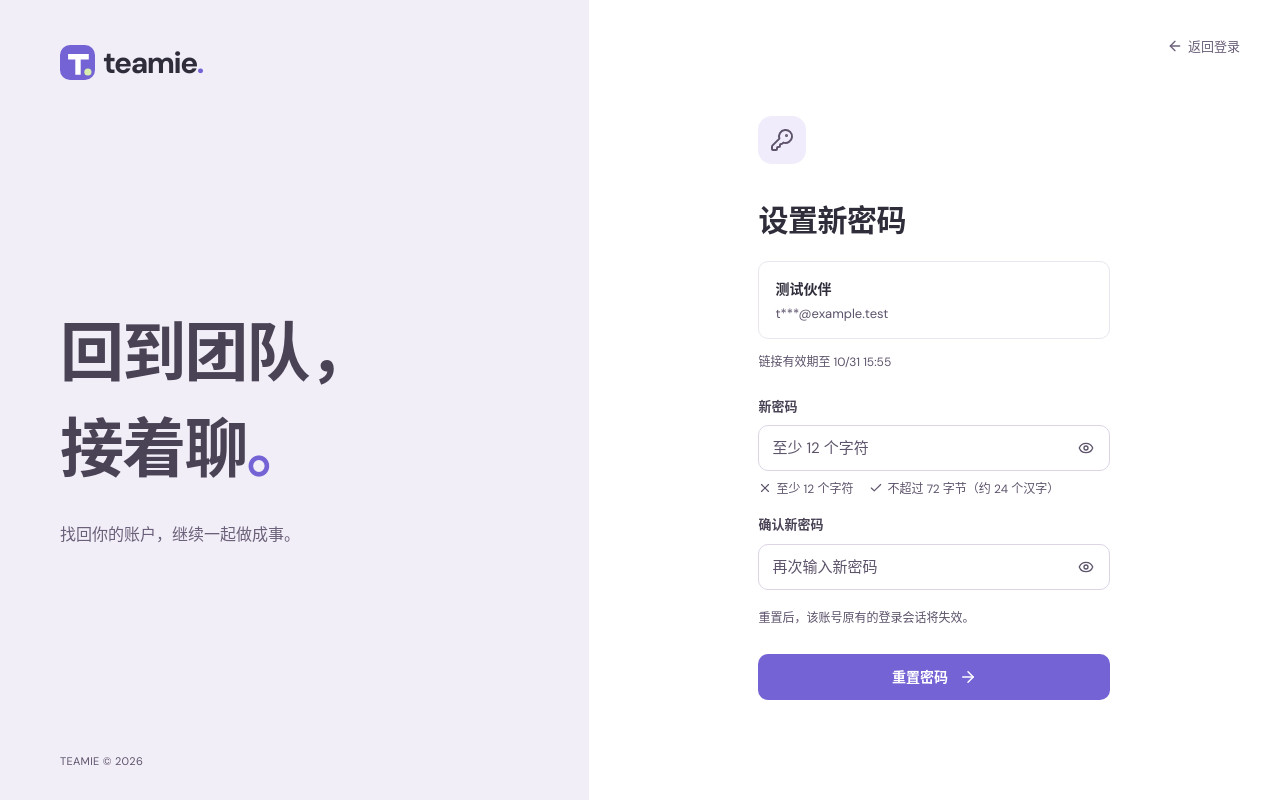
Test: public password recovery › retains the fragment token across StrictMode initialization, clears the URL promptly, and keeps secrets out of caches/storage
In the password field named "newPassword": (934, 448) [758,425,1110,471], type "example-new-password"
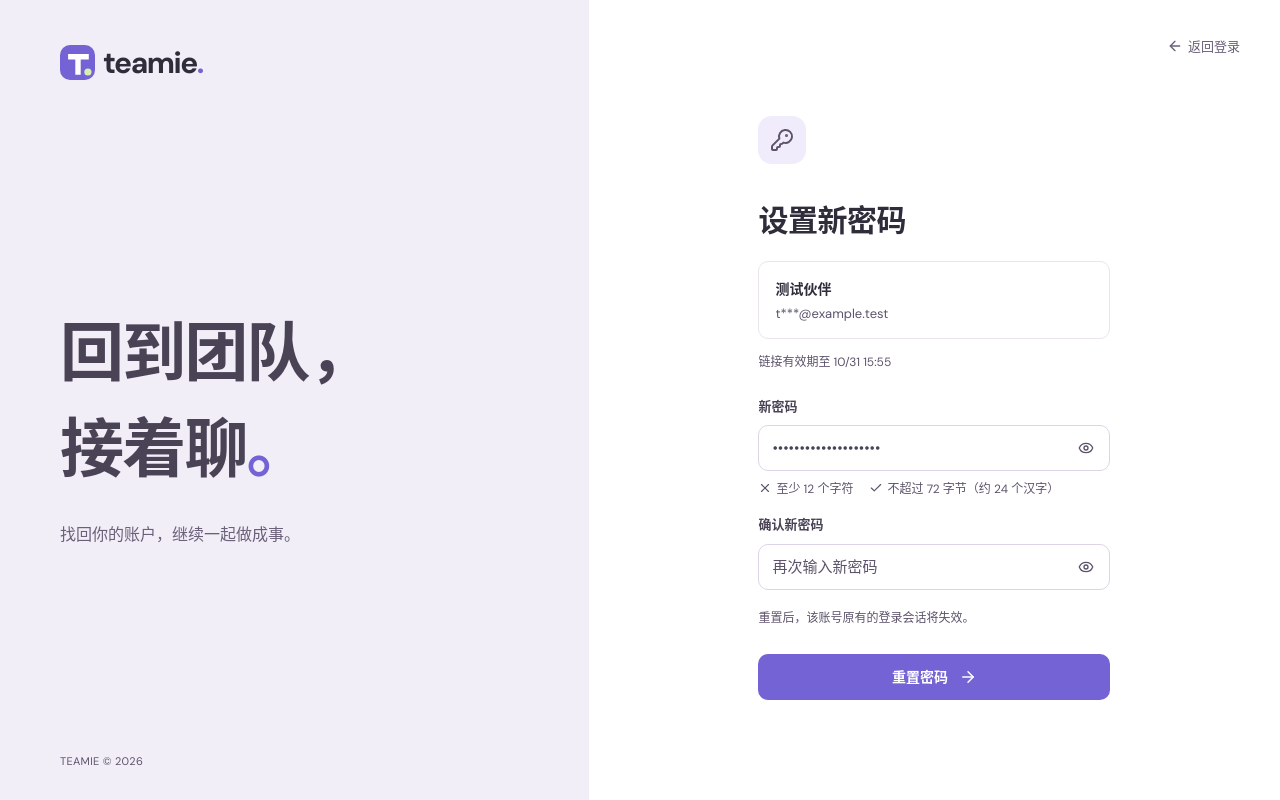
In the password field named "confirmPassword": (934, 567) [758,544,1110,590], type "example-new-password"
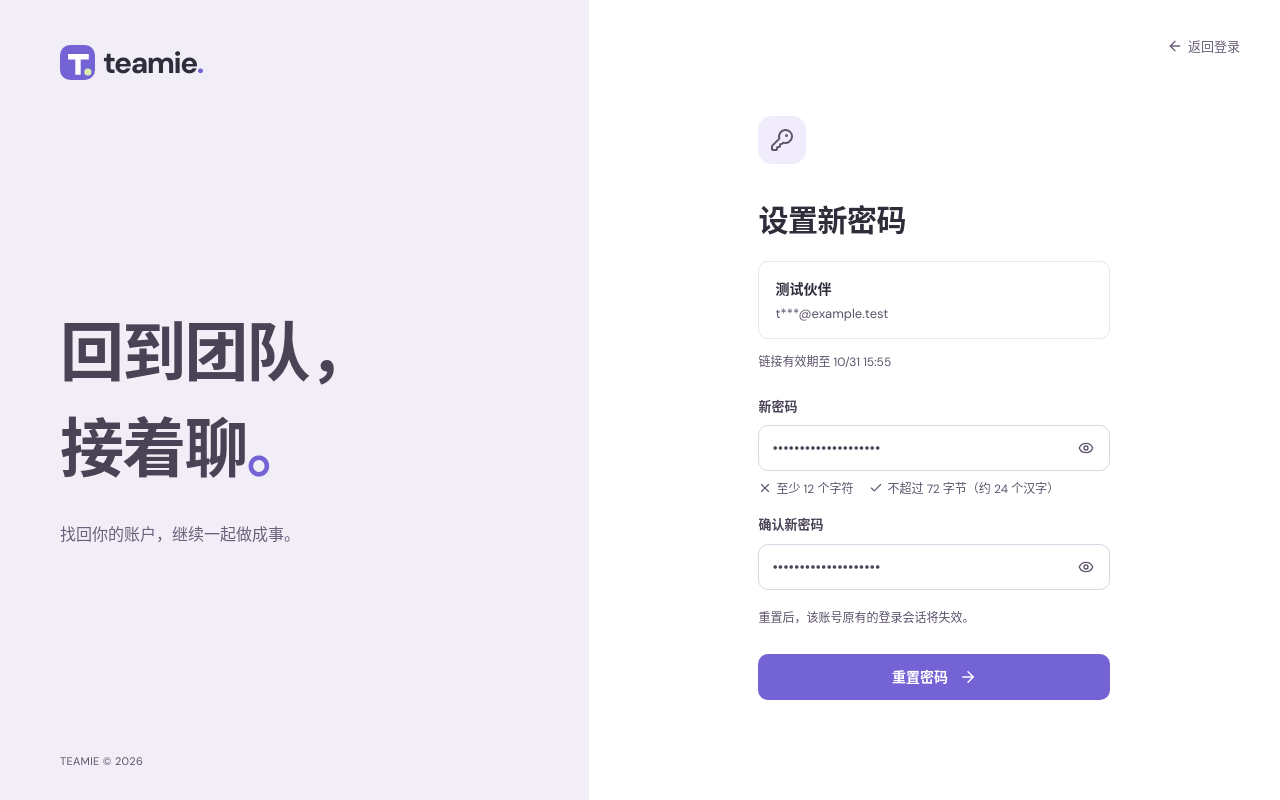
Submit the form, box [758,397,1110,700]
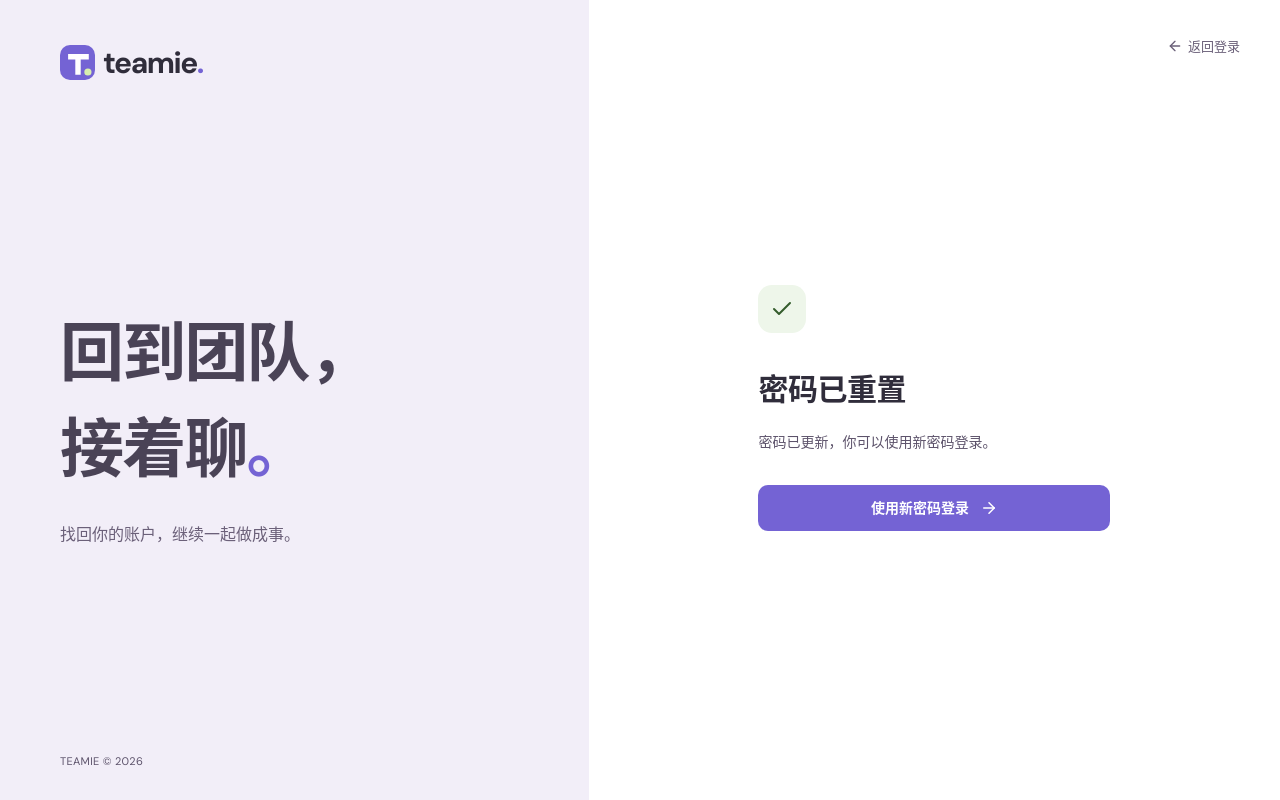
Expected: the text "密码已重置" is shown, [758,370,906,408]
